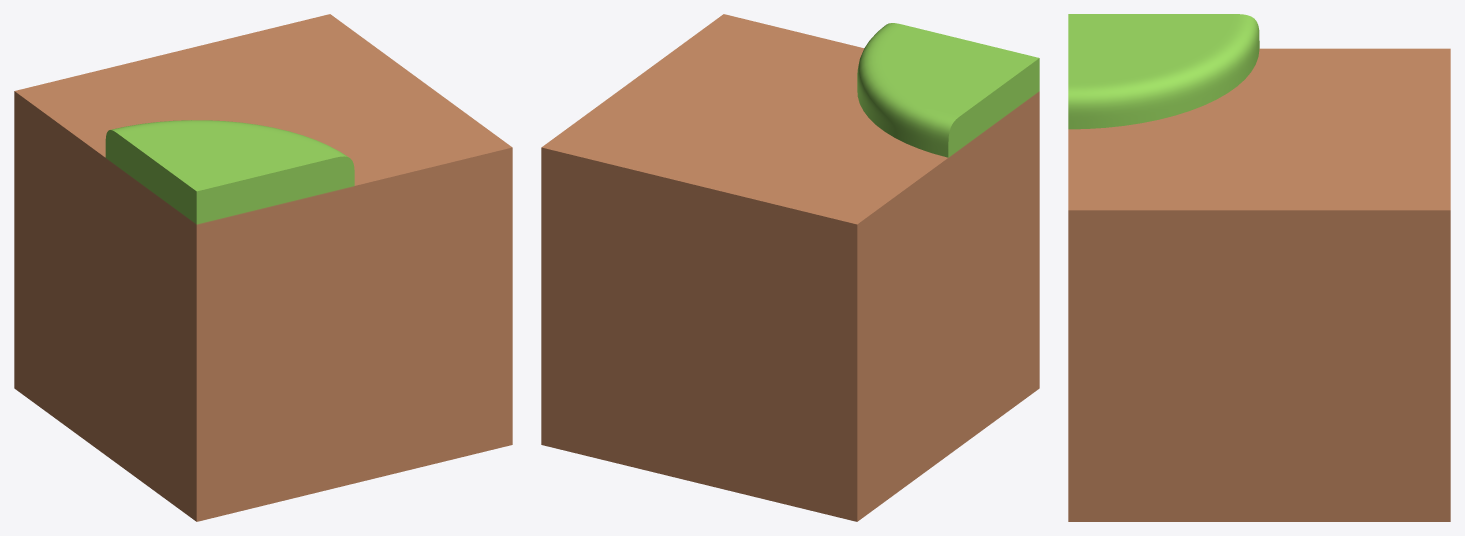
The model's file is Grass-Dirt-3.fbx.
3 views of the same model, side by side, from view 1: azimuth 30°, elevation 25°; view 2: azimuth 150°, elevation 25°; view 3: azimuth 270°, elevation 25° (orthographic). The views are drawn at different scales.
Parts seen in each view (by area): view 1: Grass-Dirt-3; view 2: Grass-Dirt-3; view 3: Grass-Dirt-3.
Boxes of the visible parts, bbox=[...] form: Grass-Dirt-3: bbox=[14, 14, 512, 521]; Grass-Dirt-3: bbox=[541, 14, 1039, 521]; Grass-Dirt-3: bbox=[1068, 14, 1450, 521].
Bounding box in the file's own units: 100 × 100 × 100.
